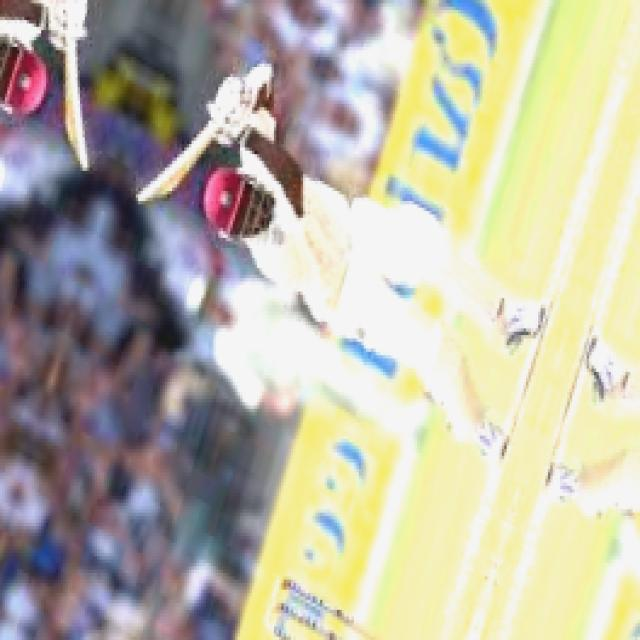toe: (135, 164, 185, 209)
